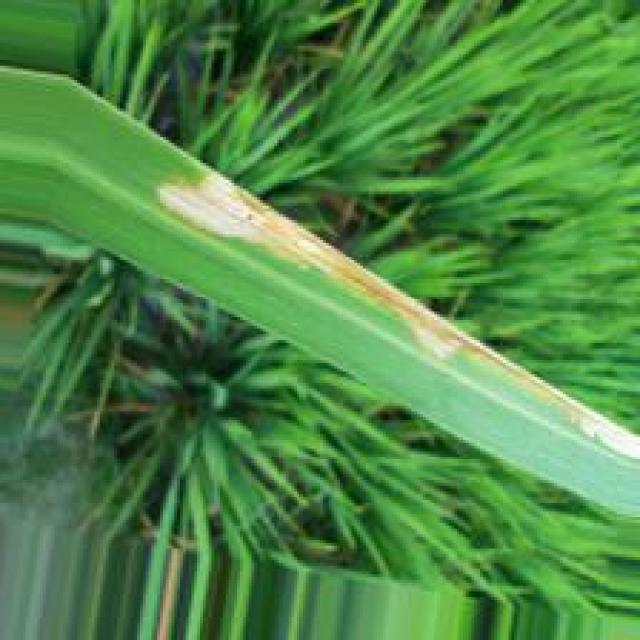Bacterial_Leaf_Blight: (153, 173, 636, 455)
